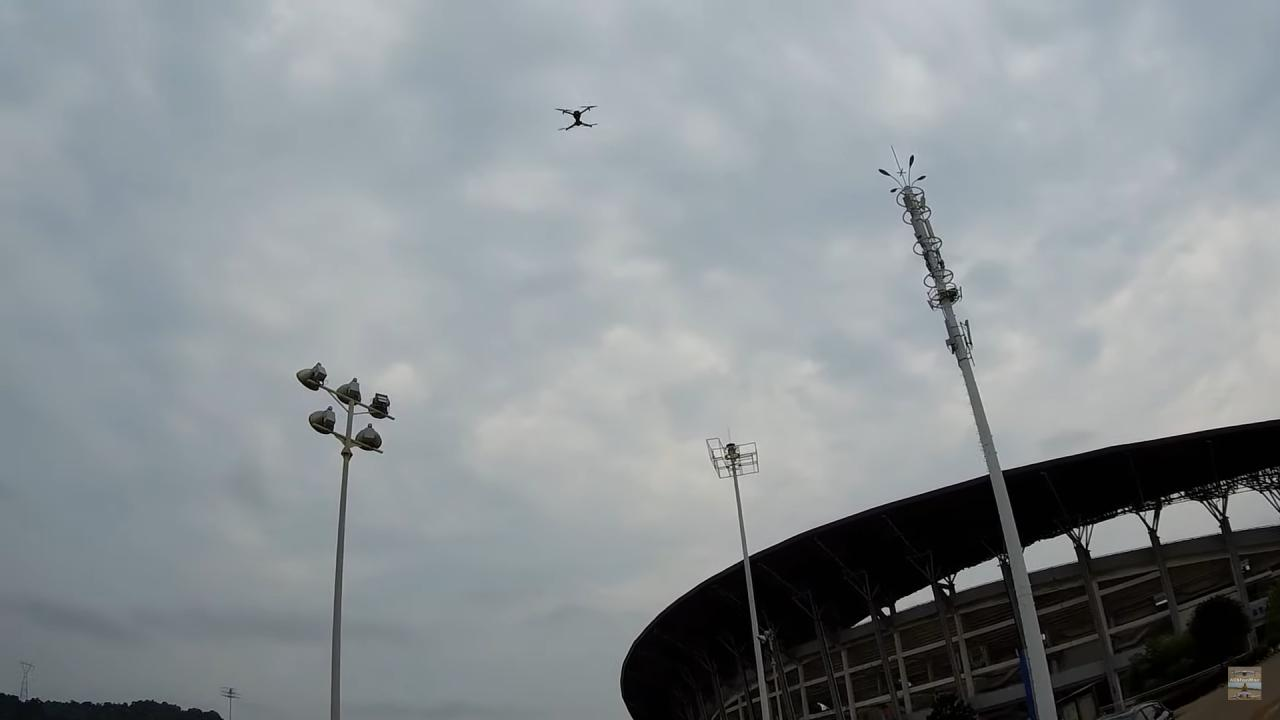Drone: (548, 99, 606, 138)
